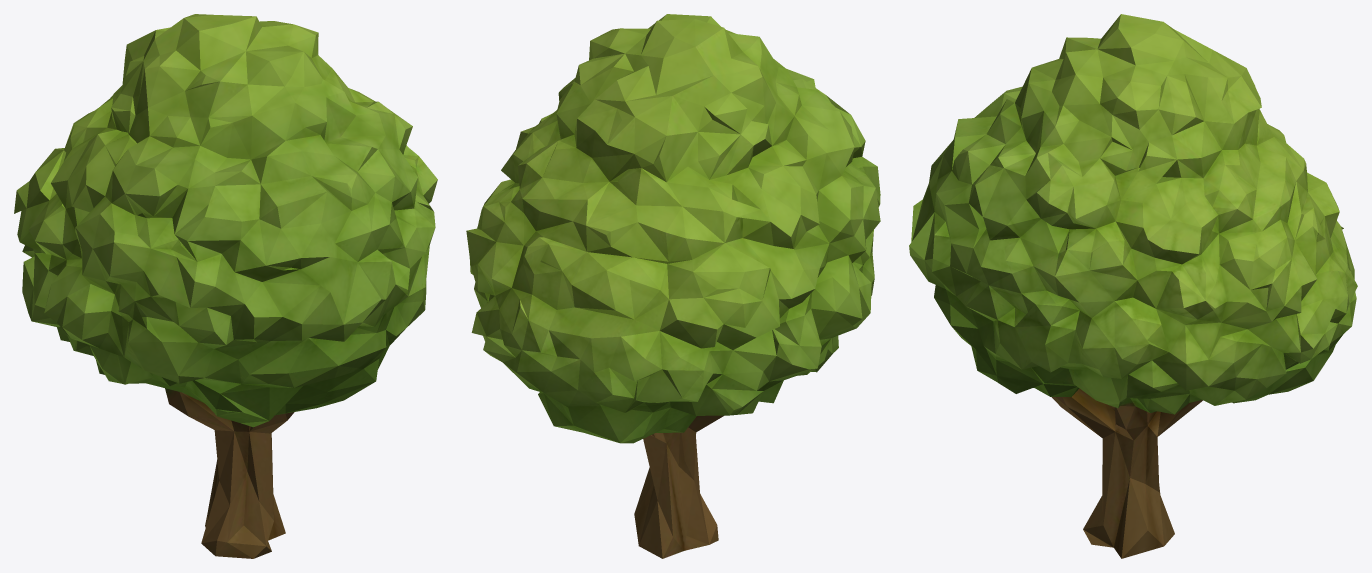
File: Tree12.glb
3 renders of one model, left to right at view 1: azimuth 30°, elevation 25°; view 2: azimuth 150°, elevation 25°; view 3: azimuth 270°, elevation 25°, orthographic. The views are drawn at different scales.
Parts seen in each view (by area): view 1: tripo_node_b3e91426-c9d0-40ac-9bec-9ccf52ddf3e1; view 2: tripo_node_b3e91426-c9d0-40ac-9bec-9ccf52ddf3e1; view 3: tripo_node_b3e91426-c9d0-40ac-9bec-9ccf52ddf3e1.
Part boxes in pixels (<box>): tripo_node_b3e91426-c9d0-40ac-9bec-9ccf52ddf3e1: <box>14,14,437,558</box>; tripo_node_b3e91426-c9d0-40ac-9bec-9ccf52ddf3e1: <box>466,14,880,558</box>; tripo_node_b3e91426-c9d0-40ac-9bec-9ccf52ddf3e1: <box>909,14,1357,558</box>.
Bounding box in the file's own units: 0.7313 × 1 × 0.8063.
1 material, 1 textured.
